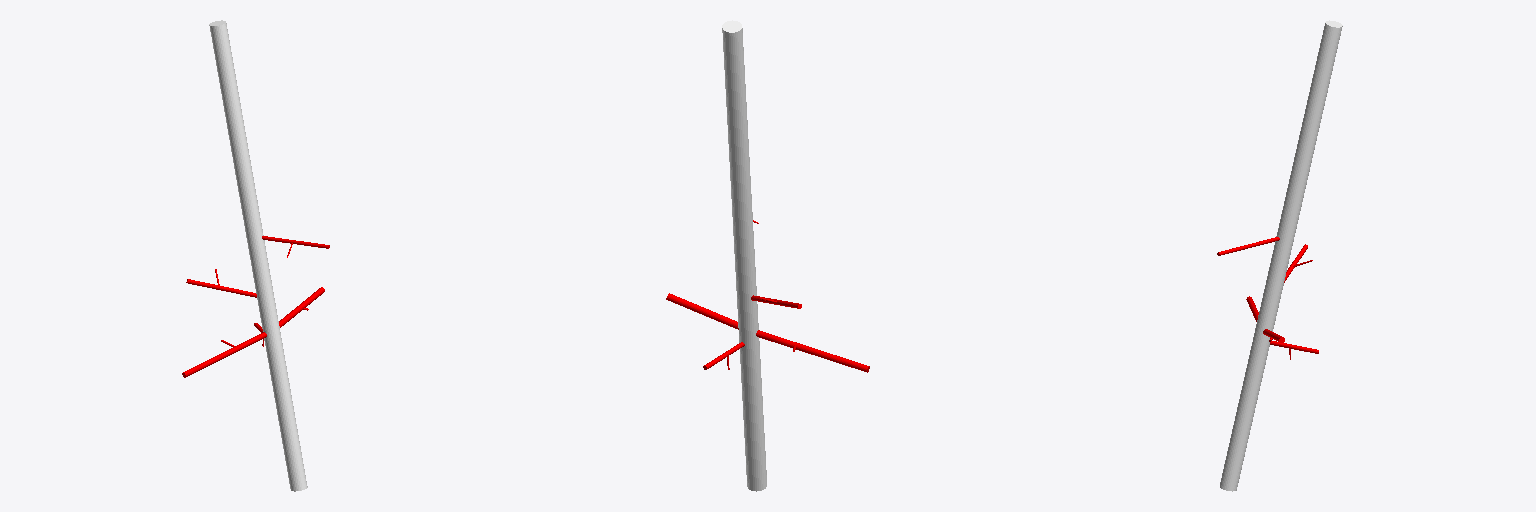
URDF robot description (tree_92.urdf):
<?xml version='1.0' encoding='UTF-8'?>
<robot name="tree_92.urdf">
  <link name="branch_0">
    <inertial>
      <origin xyz="0.0 0.0 0.0" rpy="0.0 -0.0 0.0"/>
      <mass value="0.1"/>
      <inertia ixx="0.001" ixy="0.0" ixz="0.0" iyy="0.001" iyz="0.0" izz="0.001"/>
    </inertial>
    <visual name="branch_0_visual">
      <geometry>
        <cylinder radius="0.17875279781203107" length="10.212838410002238"/>
      </geometry>
      <material name="branch_material"/>
      <origin xyz="-0.36005874490317896 1.0638079687406348 4.981384085077855" rpy="0.0 0.2217496542210588 1.8971557028253658"/>
    </visual>
    <collision name="branch_0_collision">
      <geometry>
        <cylinder radius="0.17875279781203107" length="10.212838410002238"/>
      </geometry>
      <origin xyz="-0.36005874490317896 1.0638079687406348 4.981384085077855" rpy="0.0 0.2217496542210588 1.8971557028253658"/>
    </collision>
  </link>
  <link name="branch_1">
    <inertial>
      <origin xyz="0.0 0.0 0.0" rpy="0.0 -0.0 0.0"/>
      <mass value="0.1"/>
      <inertia ixx="0.001" ixy="0.0" ixz="0.0" iyy="0.001" iyz="0.0" izz="0.001"/>
    </inertial>
    <visual name="branch_1_visual">
      <geometry>
        <cylinder radius="0.06021345218246453" length="2.3159720348443007"/>
      </geometry>
      <material name="semantic_material"/>
      <origin xyz="0.0 0.0 0.0" rpy="0.0 -0.0 0.0"/>
    </visual>
    <collision name="branch_1_collision">
      <geometry>
        <cylinder radius="0.06021345218246453" length="2.3159720348443007"/>
      </geometry>
      <origin xyz="0.0 0.0 0.0" rpy="0.0 -0.0 0.0"/>
    </collision>
  </link>
  <link name="branch_2">
    <inertial>
      <origin xyz="0.0 0.0 0.0" rpy="0.0 -0.0 0.0"/>
      <mass value="0.1"/>
      <inertia ixx="0.001" ixy="0.0" ixz="0.0" iyy="0.001" iyz="0.0" izz="0.001"/>
    </inertial>
    <visual name="branch_2_visual">
      <geometry>
        <cylinder radius="0.022854494967254245" length="0.41019596801112684"/>
      </geometry>
      <material name="semantic_material"/>
      <origin xyz="0.0 0.0 0.0" rpy="0.0 -0.0 0.0"/>
    </visual>
    <collision name="branch_2_collision">
      <geometry>
        <cylinder radius="0.022854494967254245" length="0.41019596801112684"/>
      </geometry>
      <origin xyz="0.0 0.0 0.0" rpy="0.0 -0.0 0.0"/>
    </collision>
  </link>
  <link name="branch_3">
    <inertial>
      <origin xyz="0.0 0.0 0.0" rpy="0.0 -0.0 0.0"/>
      <mass value="0.1"/>
      <inertia ixx="0.001" ixy="0.0" ixz="0.0" iyy="0.001" iyz="0.0" izz="0.001"/>
    </inertial>
    <visual name="branch_3_visual">
      <geometry>
        <cylinder radius="0.04050453762310739" length="1.6765692379669512"/>
      </geometry>
      <material name="semantic_material"/>
      <origin xyz="0.0 0.0 0.0" rpy="0.0 -0.0 0.0"/>
    </visual>
    <collision name="branch_3_collision">
      <geometry>
        <cylinder radius="0.04050453762310739" length="1.6765692379669512"/>
      </geometry>
      <origin xyz="0.0 0.0 0.0" rpy="0.0 -0.0 0.0"/>
    </collision>
  </link>
  <link name="branch_4">
    <inertial>
      <origin xyz="0.0 0.0 0.0" rpy="0.0 -0.0 0.0"/>
      <mass value="0.1"/>
      <inertia ixx="0.001" ixy="0.0" ixz="0.0" iyy="0.001" iyz="0.0" izz="0.001"/>
    </inertial>
    <visual name="branch_4_visual">
      <geometry>
        <cylinder radius="0.01442227573996882" length="0.41715017951052585"/>
      </geometry>
      <material name="semantic_material"/>
      <origin xyz="0.0 0.0 0.0" rpy="0.0 -0.0 0.0"/>
    </visual>
    <collision name="branch_4_collision">
      <geometry>
        <cylinder radius="0.01442227573996882" length="0.41715017951052585"/>
      </geometry>
      <origin xyz="0.0 0.0 0.0" rpy="0.0 -0.0 0.0"/>
    </collision>
  </link>
  <link name="branch_5">
    <inertial>
      <origin xyz="0.0 0.0 0.0" rpy="0.0 -0.0 0.0"/>
      <mass value="0.1"/>
      <inertia ixx="0.001" ixy="0.0" ixz="0.0" iyy="0.001" iyz="0.0" izz="0.001"/>
    </inertial>
    <visual name="branch_5_visual">
      <geometry>
        <cylinder radius="0.04433830379365052" length="1.1791350792199289"/>
      </geometry>
      <material name="semantic_material"/>
      <origin xyz="0.0 0.0 0.0" rpy="0.0 -0.0 0.0"/>
    </visual>
    <collision name="branch_5_collision">
      <geometry>
        <cylinder radius="0.04433830379365052" length="1.1791350792199289"/>
      </geometry>
      <origin xyz="0.0 0.0 0.0" rpy="0.0 -0.0 0.0"/>
    </collision>
  </link>
  <link name="branch_6">
    <inertial>
      <origin xyz="0.0 0.0 0.0" rpy="0.0 -0.0 0.0"/>
      <mass value="0.1"/>
      <inertia ixx="0.001" ixy="0.0" ixz="0.0" iyy="0.001" iyz="0.0" izz="0.001"/>
    </inertial>
    <visual name="branch_6_visual">
      <geometry>
        <cylinder radius="0.016318818212417024" length="0.30333278174859857"/>
      </geometry>
      <material name="semantic_material"/>
      <origin xyz="0.0 0.0 0.0" rpy="0.0 -0.0 0.0"/>
    </visual>
    <collision name="branch_6_collision">
      <geometry>
        <cylinder radius="0.016318818212417024" length="0.30333278174859857"/>
      </geometry>
      <origin xyz="0.0 0.0 0.0" rpy="0.0 -0.0 0.0"/>
    </collision>
  </link>
  <link name="branch_7">
    <inertial>
      <origin xyz="0.0 0.0 0.0" rpy="0.0 -0.0 0.0"/>
      <mass value="0.1"/>
      <inertia ixx="0.001" ixy="0.0" ixz="0.0" iyy="0.001" iyz="0.0" izz="0.001"/>
    </inertial>
    <visual name="branch_7_visual">
      <geometry>
        <cylinder radius="0.04696869284257467" length="1.696533225323642"/>
      </geometry>
      <material name="semantic_material"/>
      <origin xyz="0.0 0.0 0.0" rpy="0.0 -0.0 0.0"/>
    </visual>
    <collision name="branch_7_collision">
      <geometry>
        <cylinder radius="0.04696869284257467" length="1.696533225323642"/>
      </geometry>
      <origin xyz="0.0 0.0 0.0" rpy="0.0 -0.0 0.0"/>
    </collision>
  </link>
  <link name="branch_8">
    <inertial>
      <origin xyz="0.0 0.0 0.0" rpy="0.0 -0.0 0.0"/>
      <mass value="0.1"/>
      <inertia ixx="0.001" ixy="0.0" ixz="0.0" iyy="0.001" iyz="0.0" izz="0.001"/>
    </inertial>
    <visual name="branch_8_visual">
      <geometry>
        <cylinder radius="0.018438942924107717" length="0.4851820007011147"/>
      </geometry>
      <material name="semantic_material"/>
      <origin xyz="0.0 0.0 0.0" rpy="0.0 -0.0 0.0"/>
    </visual>
    <collision name="branch_8_collision">
      <geometry>
        <cylinder radius="0.018438942924107717" length="0.4851820007011147"/>
      </geometry>
      <origin xyz="0.0 0.0 0.0" rpy="0.0 -0.0 0.0"/>
    </collision>
  </link>
  <link name="branch_9">
    <inertial>
      <origin xyz="0.0 0.0 0.0" rpy="0.0 -0.0 0.0"/>
      <mass value="0.1"/>
      <inertia ixx="0.001" ixy="0.0" ixz="0.0" iyy="0.001" iyz="0.0" izz="0.001"/>
    </inertial>
    <visual name="branch_9_visual">
      <geometry>
        <cylinder radius="0.06415612996872536" length="1.5625668533613815"/>
      </geometry>
      <material name="semantic_material"/>
      <origin xyz="0.0 0.0 0.0" rpy="0.0 -0.0 0.0"/>
    </visual>
    <collision name="branch_9_collision">
      <geometry>
        <cylinder radius="0.06415612996872536" length="1.5625668533613815"/>
      </geometry>
      <origin xyz="0.0 0.0 0.0" rpy="0.0 -0.0 0.0"/>
    </collision>
  </link>
  <link name="branch_10">
    <inertial>
      <origin xyz="0.0 0.0 0.0" rpy="0.0 -0.0 0.0"/>
      <mass value="0.1"/>
      <inertia ixx="0.001" ixy="0.0" ixz="0.0" iyy="0.001" iyz="0.0" izz="0.001"/>
    </inertial>
    <visual name="branch_10_visual">
      <geometry>
        <cylinder radius="0.022165846241360827" length="0.17765572106957409"/>
      </geometry>
      <material name="semantic_material"/>
      <origin xyz="0.0 0.0 0.0" rpy="0.0 -0.0 0.0"/>
    </visual>
    <collision name="branch_10_collision">
      <geometry>
        <cylinder radius="0.022165846241360827" length="0.17765572106957409"/>
      </geometry>
      <origin xyz="0.0 0.0 0.0" rpy="0.0 -0.0 0.0"/>
    </collision>
  </link>
  <joint name="joint_0_1" type="fixed">
    <parent link="branch_0"/>
    <child link="branch_1"/>
    <axis xyz="1. 0. 0."/>
    <origin xyz="-1.3786329325828122 0.5719532498012383 3.1890415575005577" rpy="2.1799686656823276 1.3063788708028572 -0.8501963058862152"/>
  </joint>
  <joint name="joint_0_3" type="fixed">
    <parent link="branch_0"/>
    <child link="branch_3"/>
    <axis xyz="1. 0. 0."/>
    <origin xyz="0.1070801258518376 0.4779615498878433 5.432643910647164" rpy="-0.9744664844675289 1.48883833891833 -1.911461147306517"/>
  </joint>
  <joint name="joint_0_5" type="fixed">
    <parent link="branch_0"/>
    <child link="branch_5"/>
    <axis xyz="1. 0. 0."/>
    <origin xyz="-0.10947247587937114 1.2479408968012018 3.089857813662025" rpy="-2.385032964020371 1.4085667925072232 -1.0120865165021278"/>
  </joint>
  <joint name="joint_0_7" type="fixed">
    <parent link="branch_0"/>
    <child link="branch_7"/>
    <axis xyz="1. 0. 0."/>
    <origin xyz="-1.0377337929847161 1.2217536605412183 4.313851968813656" rpy="0.5725403877715434 1.2568974560832546 -2.984103095912226"/>
  </joint>
  <joint name="joint_0_9" type="fixed">
    <parent link="branch_0"/>
    <child link="branch_9"/>
    <axis xyz="1. 0. 0."/>
    <origin xyz="0.4782149700695436 0.9029146581168285 3.6049647026579517" rpy="-0.6236164070125095 1.1888902388653684 -0.41043429490026073"/>
  </joint>
  <joint name="joint_1_2" type="fixed">
    <parent link="branch_0"/>
    <child link="branch_2"/>
    <axis xyz="1. 0. 0."/>
    <origin xyz="-1.2121728668260074 0.784116061226567 3.268721618407243" rpy="-1.3680225428670851 -0.22012397290552838 0.42887506966753247"/>
  </joint>
  <joint name="joint_3_4" type="fixed">
    <parent link="branch_0"/>
    <child link="branch_4"/>
    <axis xyz="1. 0. 0."/>
    <origin xyz="-0.019161523139287925 0.3438061752168765 5.331330566935123" rpy="-2.08393643099116 0.07063215020897524 2.249821706806312"/>
  </joint>
  <joint name="joint_5_6" type="fixed">
    <parent link="branch_0"/>
    <child link="branch_6"/>
    <axis xyz="1. 0. 0."/>
    <origin xyz="-0.12642416064593884 1.247250324211712 2.939749391964721" rpy="3.032741283772887 0.007944681630231577 -1.789039911126687"/>
  </joint>
  <joint name="joint_7_8" type="fixed">
    <parent link="branch_0"/>
    <child link="branch_8"/>
    <axis xyz="1. 0. 0."/>
    <origin xyz="-1.097431400177508 1.4881915299468278 4.46260311316768" rpy="-1.0971594959411164 0.17778463667397765 -0.2607413072105939"/>
  </joint>
  <joint name="joint_9_10" type="fixed">
    <parent link="branch_0"/>
    <child link="branch_10"/>
    <axis xyz="1. 0. 0."/>
    <origin xyz="0.6306683487884771 0.8797603601477421 3.6124429507450593" rpy="-1.808164833552811 0.570028260472296 -2.2120559019204964"/>
  </joint>
  <material name="branch_material">
    <color rgba="1. 1. 1. 1."/>
  </material>
  <material name="semantic_material">
    <color rgba="1. 0. 0. 1."/>
  </material>
</robot>

--- Render facts (derived) ---
The picture shows the robot from 3 angles, left to right: view 1: azimuth 30°, elevation 25°; view 2: azimuth 150°, elevation 25°; view 3: azimuth 270°, elevation 25°; orthographic projection.
Model tree_92.urdf with 11 links and 10 joints (10 fixed), rooted at branch_0, posed every joint at zero.
Visible links, largest first — view 1: branch_0, branch_1; view 2: branch_0, branch_1, branch_9; view 3: branch_0.
Boxes of the visible links, bbox=[...] form: branch_0: bbox=[209, 20, 307, 491]; branch_1: bbox=[182, 332, 266, 377]; branch_0: bbox=[722, 20, 766, 491]; branch_1: bbox=[756, 330, 869, 372]; branch_9: bbox=[666, 293, 738, 329]; branch_0: bbox=[1220, 20, 1342, 491].
Bounding box of the posed robot: 3.75 × 2.52 × 10.04 m (x, y, z).
Geometry: primitives only (box / cylinder / sphere), no mesh files.